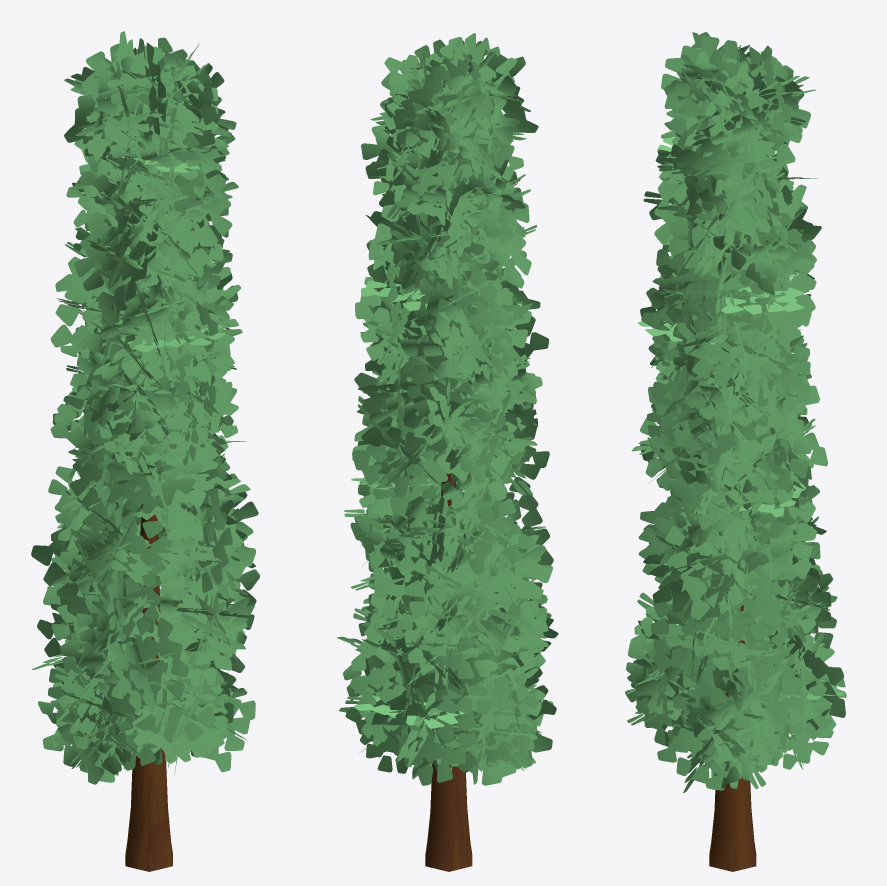
Rendered from STColumnar3.glb.
The picture shows the model from 3 angles, left to right: view 1: azimuth 30°, elevation 25°; view 2: azimuth 150°, elevation 25°; view 3: azimuth 270°, elevation 25°; orthographic projection.
Visible parts, largest first — view 1: VertTree3Leaves; view 2: VertTree3Leaves; view 3: VertTree3Leaves.
Boxes of the visible parts, x1,y1,x2,y2 form: VertTree3Leaves: (31, 31, 259, 871); VertTree3Leaves: (337, 33, 558, 871); VertTree3Leaves: (625, 32, 846, 871).
Bounding box in the file's own units: 4.25 × 14.51 × 4.19.
Materials: 2 (2 with a texture image).
